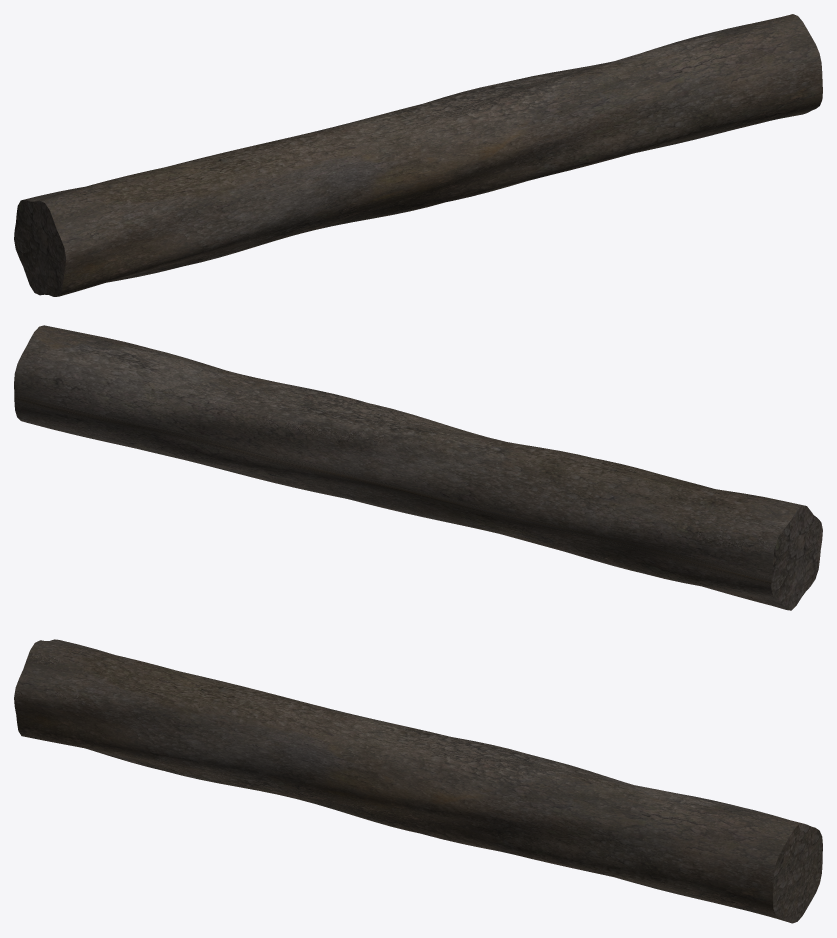
File: log_short.glb
3 views of the same model, one above another, from view 1: azimuth 30°, elevation 25°; view 2: azimuth 150°, elevation 25°; view 3: azimuth 330°, elevation 25° (orthographic).
Visible parts, largest first — view 1: log_short; view 2: log_short; view 3: log_short.
Boxes of the visible parts, box(x1,y1,x2,y2) form: log_short: box(14, 14, 822, 296); log_short: box(14, 325, 822, 610); log_short: box(14, 639, 822, 923).
Bounding box in the file's own units: 3 × 0.3735 × 0.3576.
Materials: 1 (1 with a texture image).
